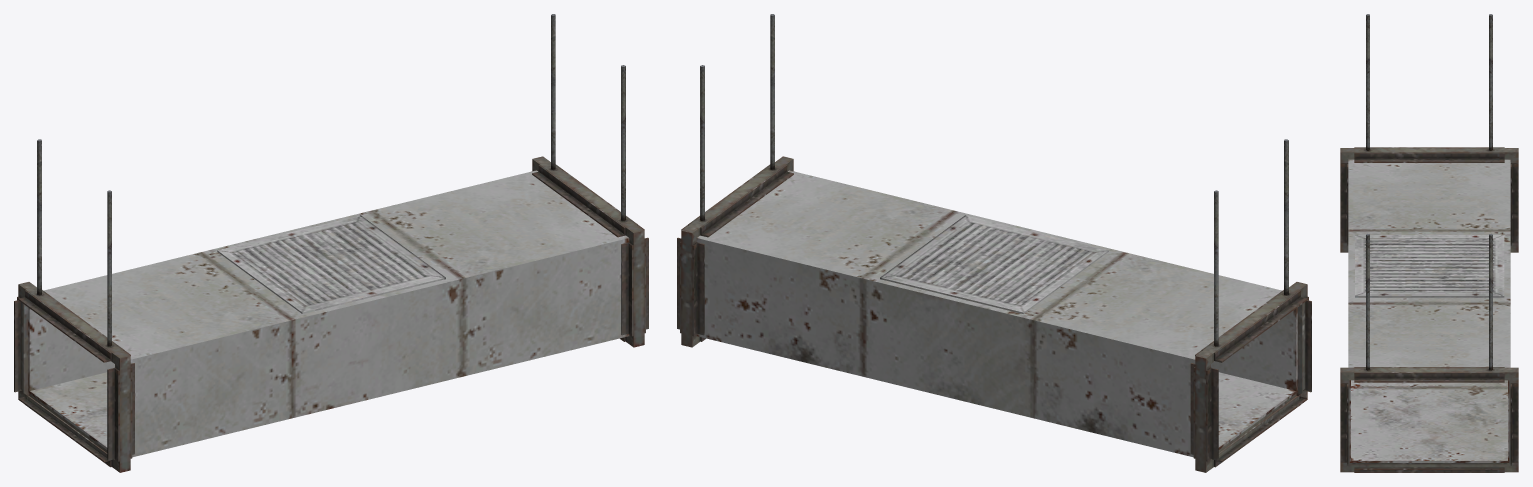
The model's file is sm22_060_duct04a.fbx.
3 views of the same model, side by side, from view 1: azimuth 30°, elevation 25°; view 2: azimuth 150°, elevation 25°; view 3: azimuth 270°, elevation 25° (orthographic). The views are drawn at different scales.
Visible parts, largest first — view 1: LOD_1_Group_0_Sub_1__sm22_060_Duct04A_A_Mat__Env_default; view 2: LOD_1_Group_0_Sub_1__sm22_060_Duct04A_A_Mat__Env_default; view 3: LOD_1_Group_0_Sub_1__sm22_060_Duct04A_A_Mat__Env_default.
Part boxes in pixels (x1,y1,x2,y2): LOD_1_Group_0_Sub_1__sm22_060_Duct04A_A_Mat__Env_default: [14, 14, 648, 472]; LOD_1_Group_0_Sub_1__sm22_060_Duct04A_A_Mat__Env_default: [677, 14, 1311, 472]; LOD_1_Group_0_Sub_1__sm22_060_Duct04A_A_Mat__Env_default: [1340, 14, 1518, 472].
Bounding box in the file's own units: 3.76 × 1.79 × 1.22.
